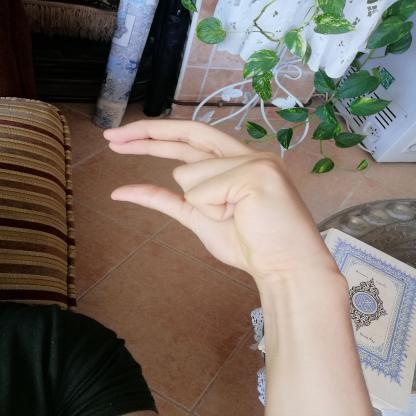DHELL: (91, 110, 336, 280)
